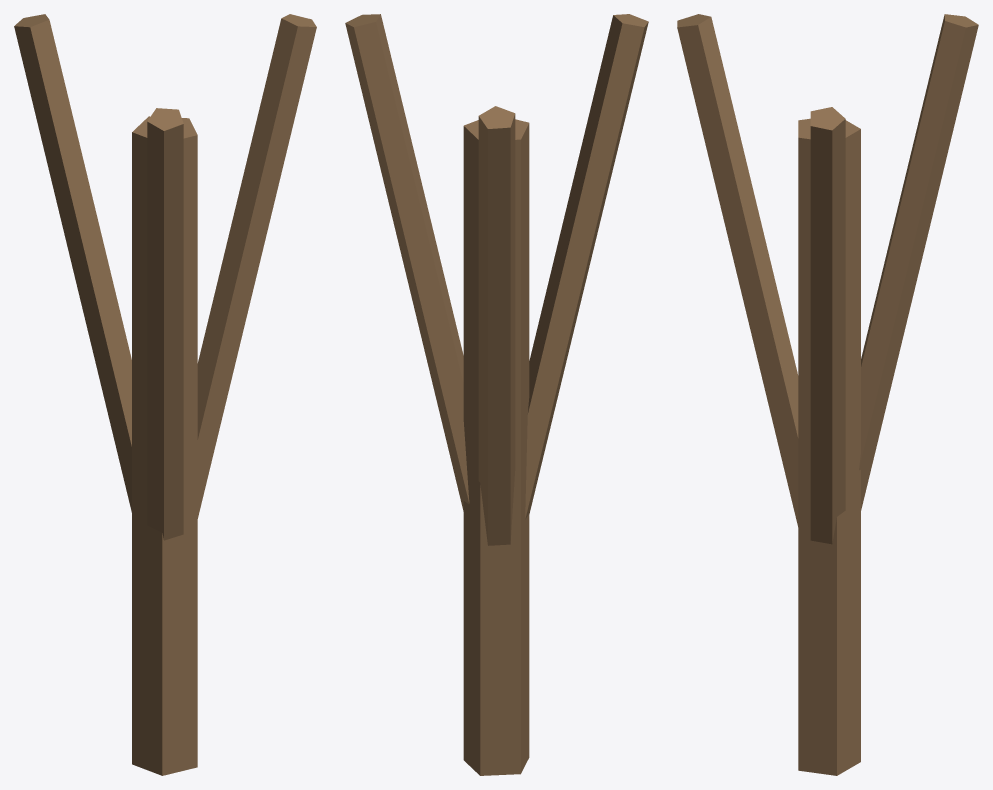
File: plant_hazel_dormant.glb
3 views of the same model, side by side, from view 1: azimuth 30°, elevation 25°; view 2: azimuth 150°, elevation 25°; view 3: azimuth 270°, elevation 25° (orthographic).
Visible parts, largest first — view 1: plant_hazel_dormant; view 2: plant_hazel_dormant; view 3: plant_hazel_dormant.
Part boxes in pixels (bbox=[...]): plant_hazel_dormant: bbox=[14, 14, 316, 775]; plant_hazel_dormant: bbox=[345, 14, 648, 775]; plant_hazel_dormant: bbox=[677, 14, 978, 775].
Size of the model in its own units: 0.3466 by 1.02 by 0.3907.
